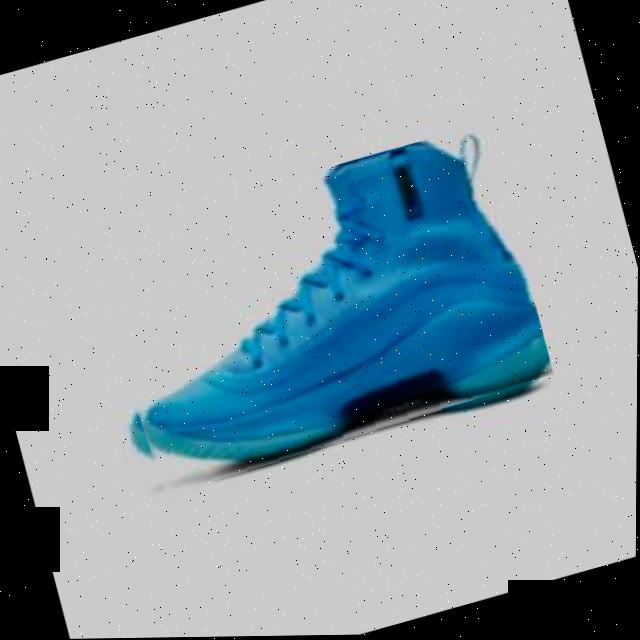shoe: (78, 122, 559, 502)
